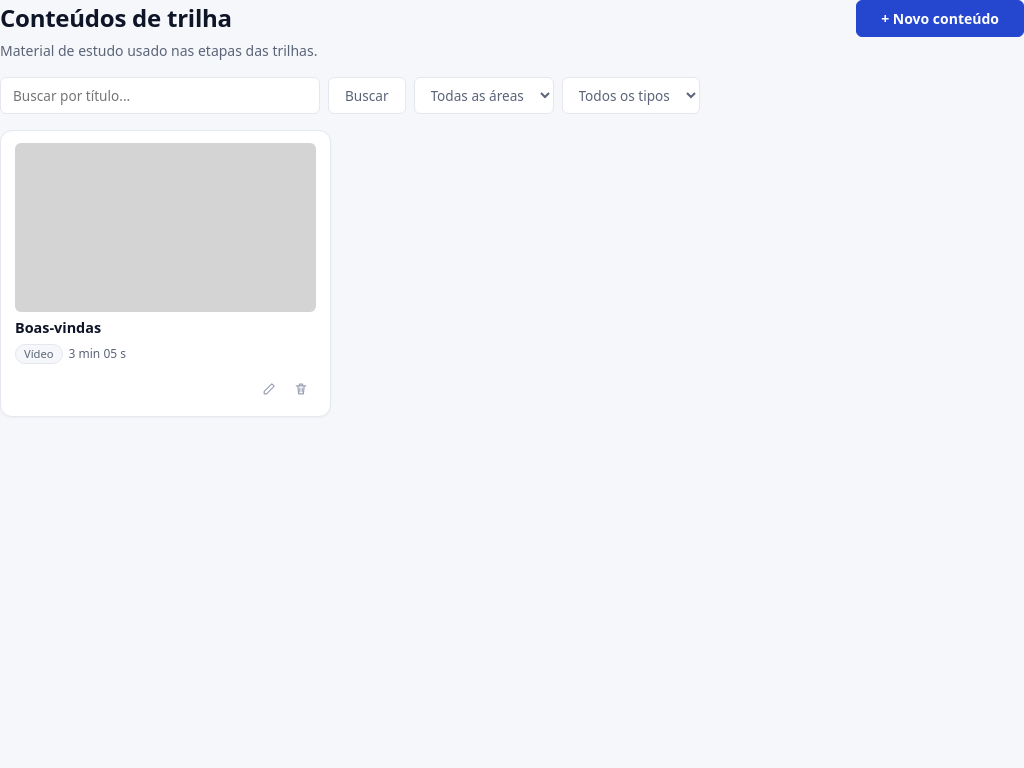
ConteudosPage › conteúdo em etapa de trilha mostra o 409 da API ao excluir
The width and height of the screenshot is (1024, 768).
Click the button named "Excluir Boas-vindas" at (301, 389), box [286, 374, 316, 404]
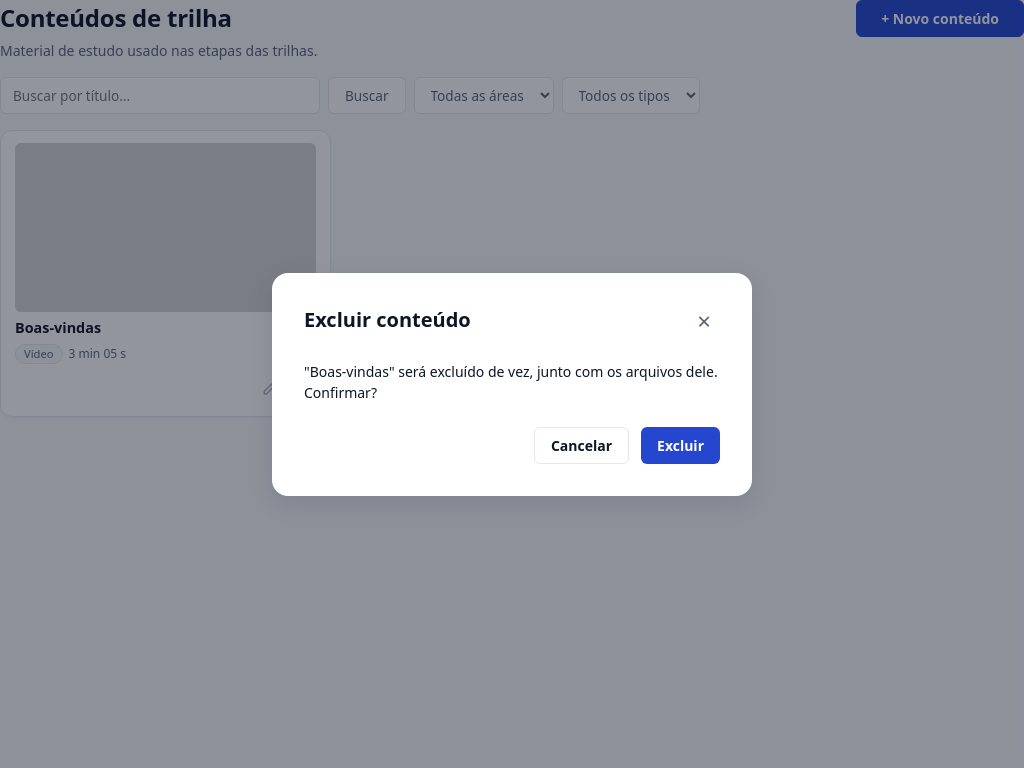
Click the button "Excluir" at (680, 445), box [641, 426, 720, 464]
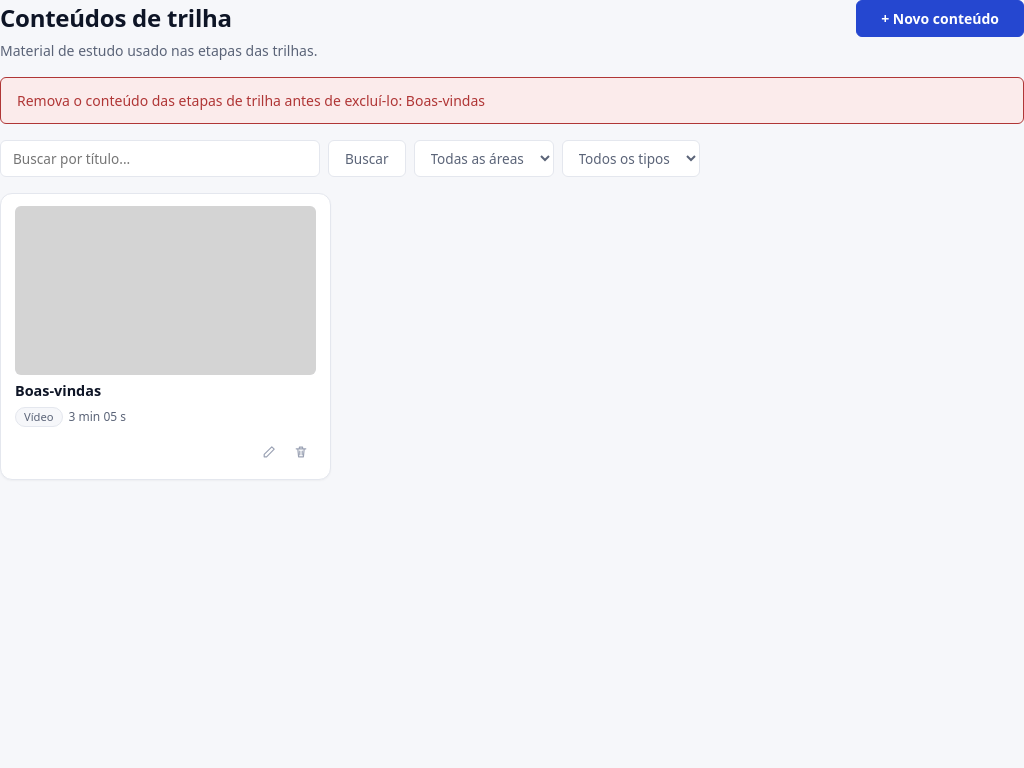
Expected: the message shows "Remova o conteúdo das etapas de trilha", [17, 91, 485, 110]
